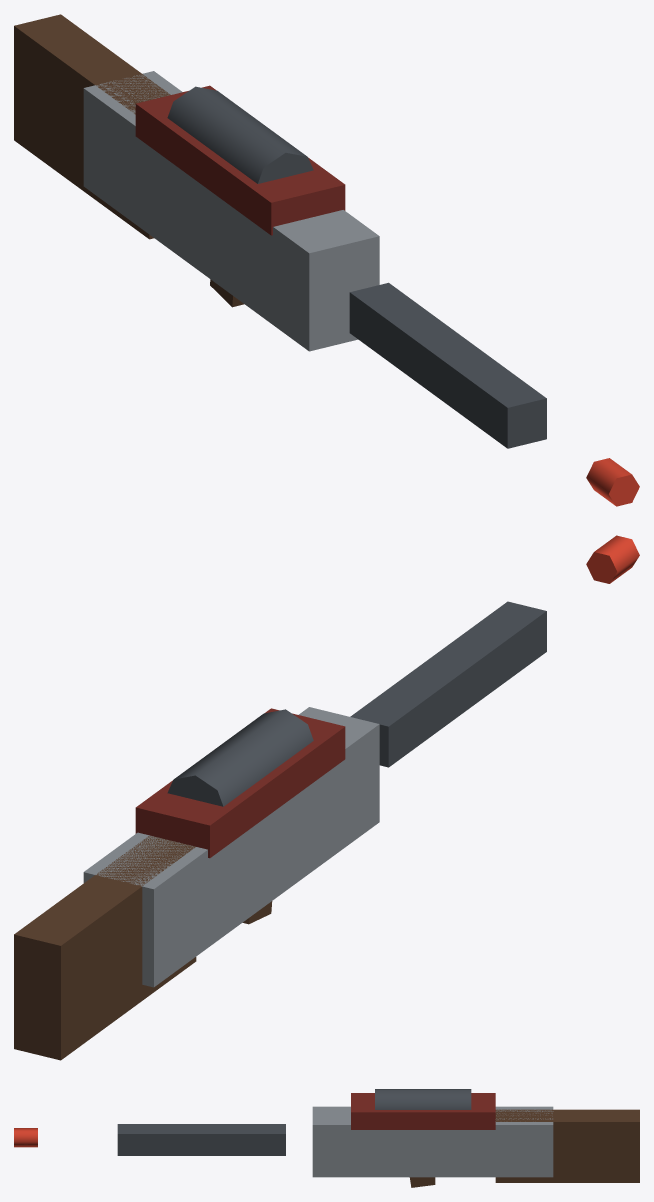
3 views of the same model, one above another, from view 1: azimuth 30°, elevation 25°; view 2: azimuth 150°, elevation 25°; view 3: azimuth 270°, elevation 25° (orthographic). The views are drawn at different scales.
Parts seen in each view (by area): view 1: garde_weapon_laser_carbine; view 2: garde_weapon_laser_carbine; view 3: garde_weapon_laser_carbine.
Boxes of the visible parts, x1,y1,x2,y2 form: garde_weapon_laser_carbine: (14, 14, 639, 506); garde_weapon_laser_carbine: (14, 535, 639, 1060); garde_weapon_laser_carbine: (14, 1089, 639, 1187).
Bounding box in the file's own units: 0.095 × 0.2135 × 1.3.
